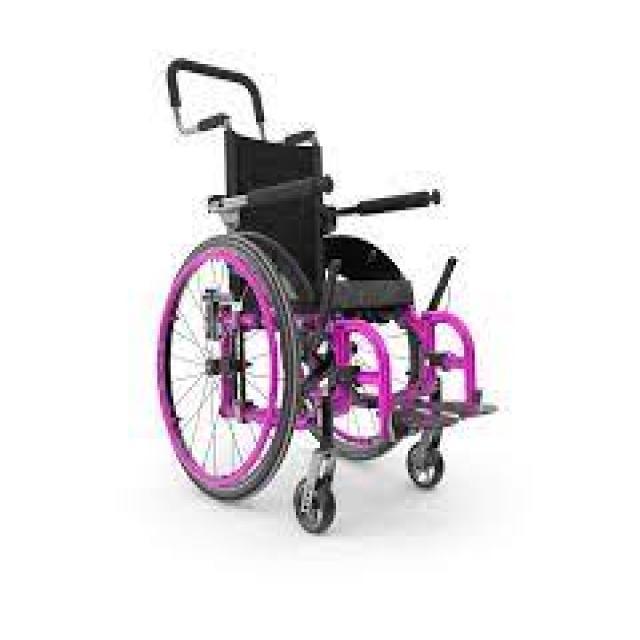wheelchairs: (133, 55, 520, 548)
